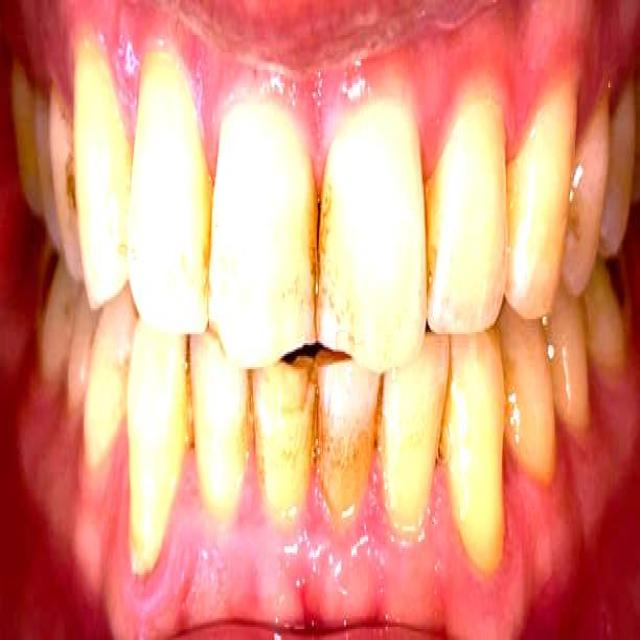caries: (262, 341, 321, 431), (602, 248, 636, 337)
